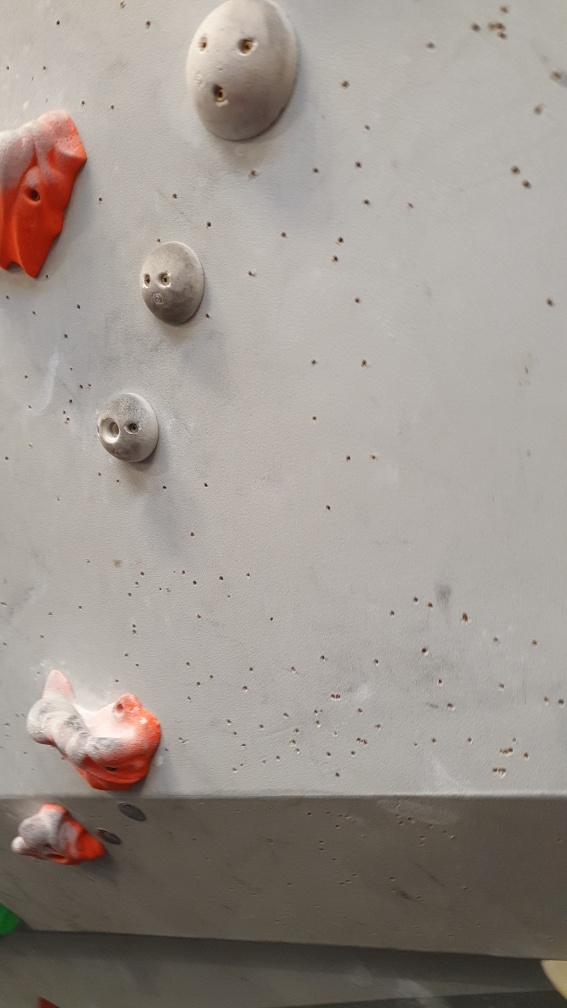Hand Start: (115, 797, 152, 831), (92, 827, 124, 852)
Jug: (27, 669, 163, 797), (1, 103, 92, 281)
Sloper: (184, 1, 301, 139), (137, 238, 210, 327), (94, 387, 163, 465)
